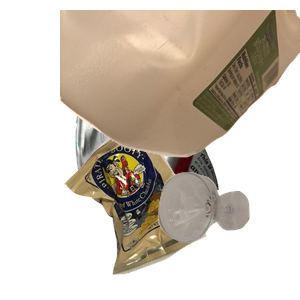glass: (156, 170, 300, 300)
metal: (73, 34, 285, 214)
plastic: (60, 10, 300, 160)
trash: (61, 127, 260, 300)
